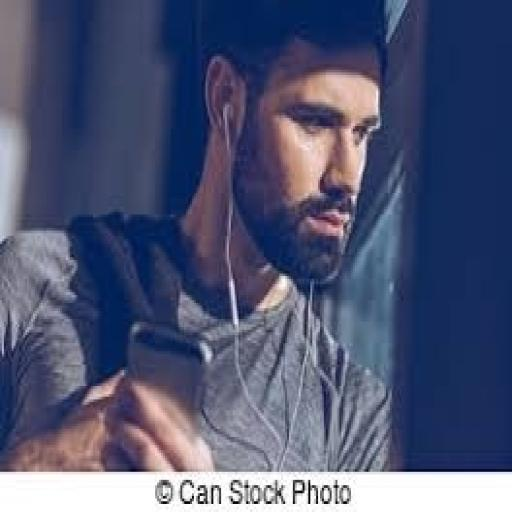listening_to_music: (0, 0, 407, 472)
